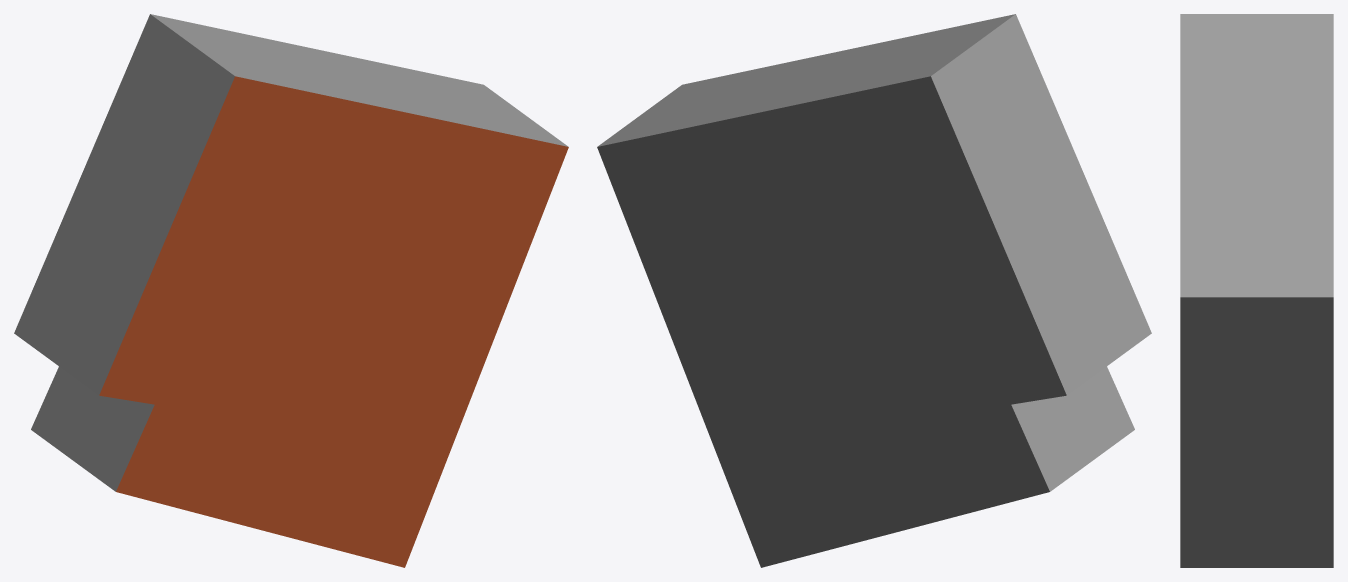
The model's file is construction_4368_assumed_A_Casa_h6m.obj.
3 renders of one model, left to right at view 1: azimuth 30°, elevation 25°; view 2: azimuth 150°, elevation 25°; view 3: azimuth 270°, elevation 25°, orthographic. The views are drawn at different scales.
Visible parts, largest first — view 1: construction_4368_assumed_A_Casa; view 2: construction_4368_assumed_A_Casa; view 3: construction_4368_assumed_A_Casa.
Boxes of the visible parts, box(x1,y1,x2,y2) form: construction_4368_assumed_A_Casa: box(14, 14, 568, 567); construction_4368_assumed_A_Casa: box(597, 14, 1151, 567); construction_4368_assumed_A_Casa: box(1180, 14, 1333, 567).
Size of the model in its own units: 19.13 by 20.74 by 6.
